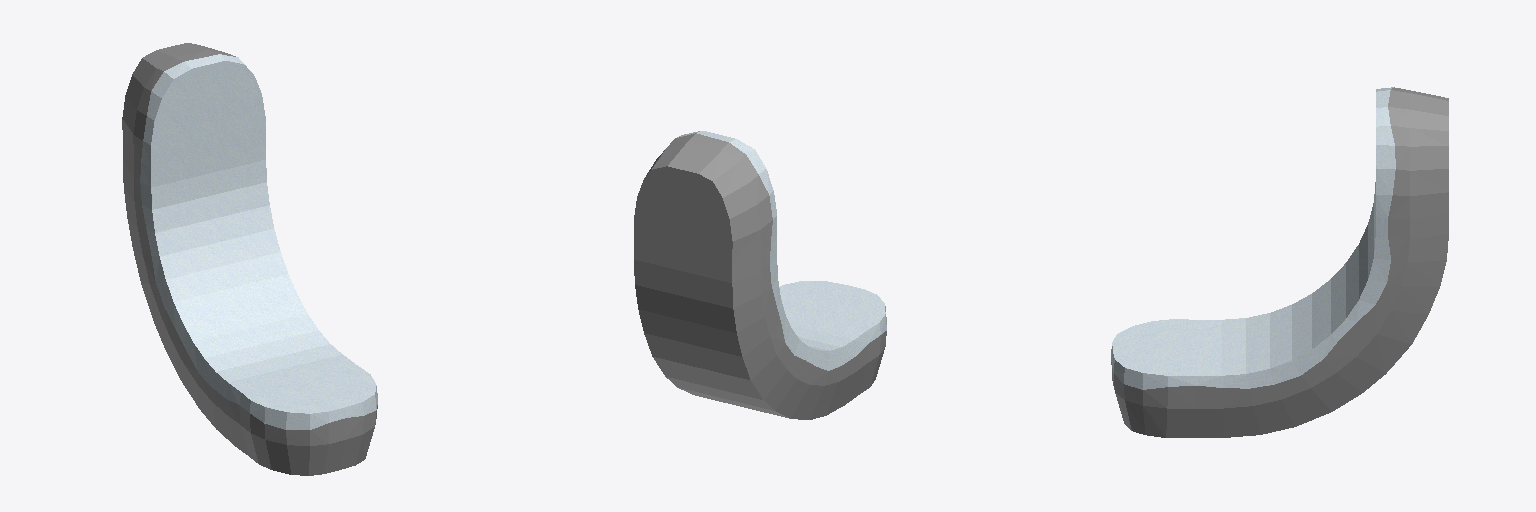
3 views of the same model, side by side, from view 1: azimuth 30°, elevation 25°; view 2: azimuth 150°, elevation 25°; view 3: azimuth 270°, elevation 25° (orthographic).
Parts seen in each view (by area): view 1: Plane.000_Plane.009, Plane.002; view 2: Plane.002, Plane.000_Plane.009; view 3: Plane.002, Plane.000_Plane.009.
Boxes of the visible parts, box(x1,y1,x2,y2) form: Plane.000_Plane.009: box(140, 54, 377, 429); Plane.002: box(122, 43, 377, 475); Plane.002: box(634, 133, 886, 419); Plane.000_Plane.009: box(677, 131, 886, 370); Plane.002: box(1111, 87, 1448, 437); Plane.000_Plane.009: box(1111, 87, 1395, 389).
Bounding box in the file's own units: 1193 × 3019 × 2928.
2 materials, 1 textured.